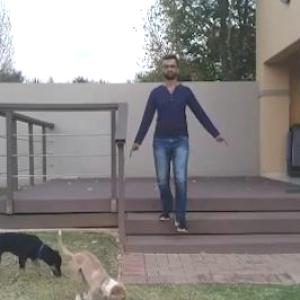land: (130, 61, 222, 233)
